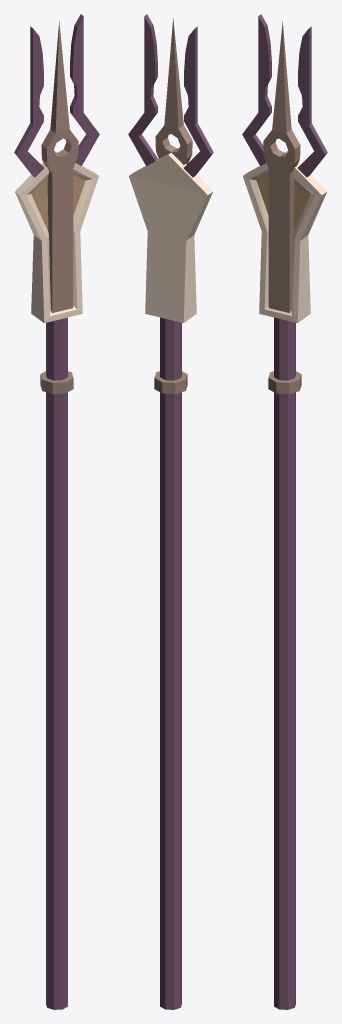
Rendered from cane-14.glb.
3 renders of one model, left to right at view 1: azimuth 30°, elevation 25°; view 2: azimuth 150°, elevation 25°; view 3: azimuth 330°, elevation 25°, orthographic.
Visible parts, largest first — view 1: cane_14; view 2: cane_14; view 3: cane_14.
Part boxes in pixels (x1,y1,x2,y2): cane_14: (14, 14, 99, 1009); cane_14: (128, 14, 213, 1009); cane_14: (242, 14, 327, 1009).
Size of the model in its own units: 16.68 by 190 by 5.97.
Materials: 1 (1 with a texture image).
